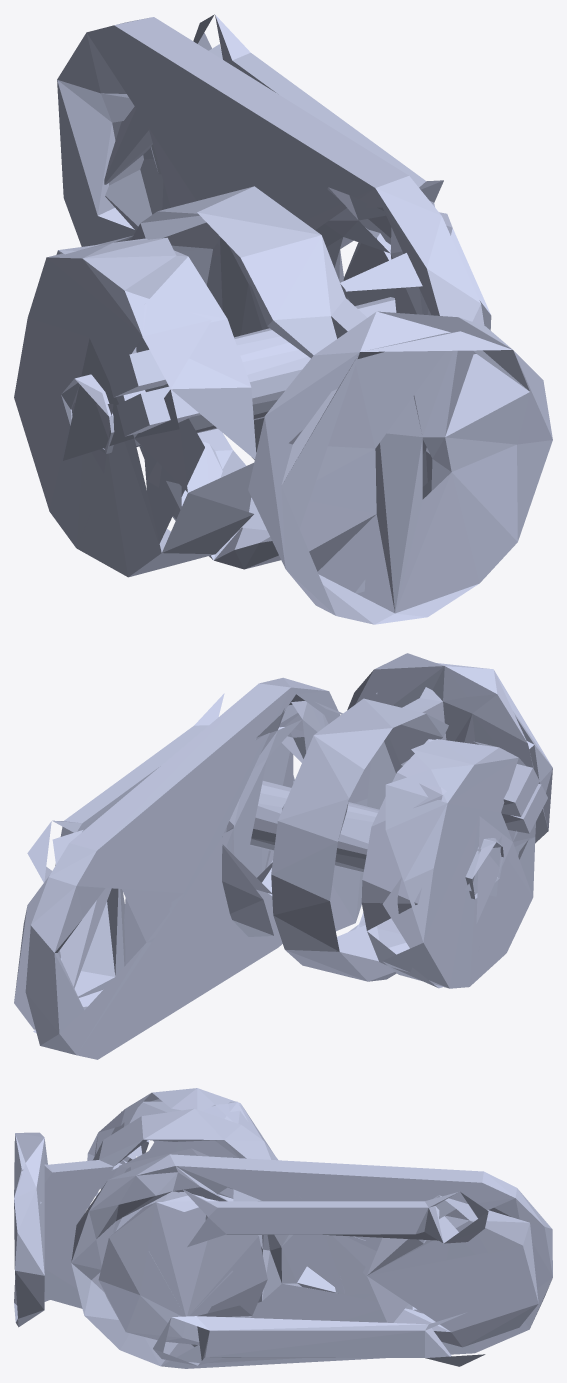
File: agvl.SLDASM_cclc11_visual_vis_1.dae
The picture shows the model from 3 angles, top to bottom: view 1: azimuth 30°, elevation 25°; view 2: azimuth 150°, elevation 25°; view 3: azimuth 270°, elevation 25°; orthographic projection. The views are drawn at different scales.
Parts seen in each view (by area): view 1: node; view 2: node; view 3: node.
Boxes of the visible parts, x1=… form: node: x1=14, y1=14, x2=552, y2=624; node: x1=14, y1=653, x2=552, y2=1059; node: x1=14, y1=1088, x2=552, y2=1368.
Size of the model in its own units: 0.0689 by 0.0588 by 0.141.
